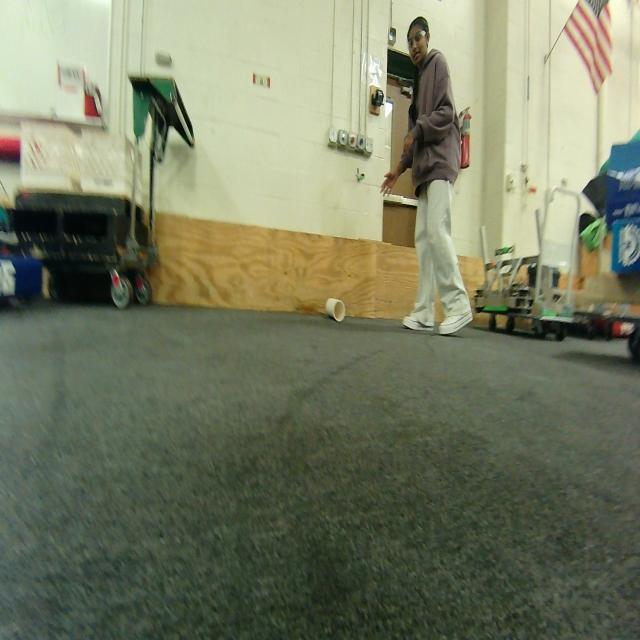coral: (325, 297, 345, 323)
